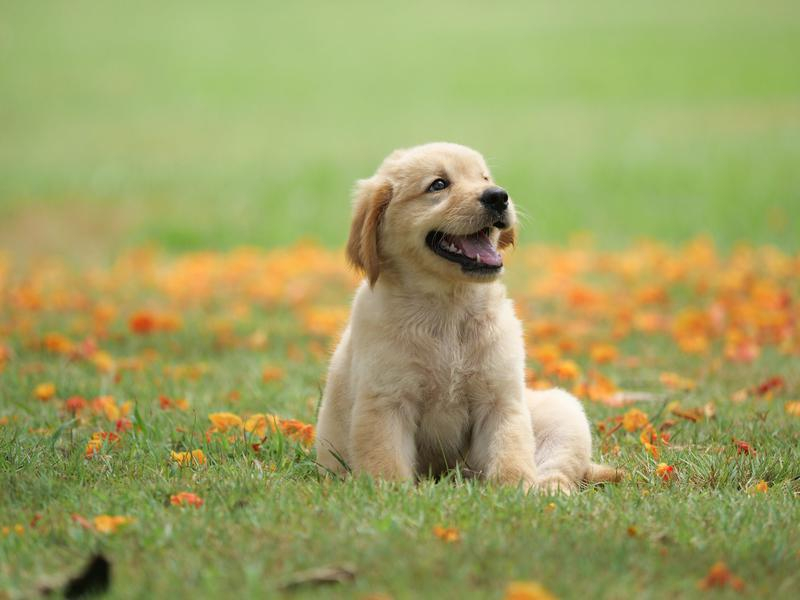dog: (312, 138, 624, 501)
